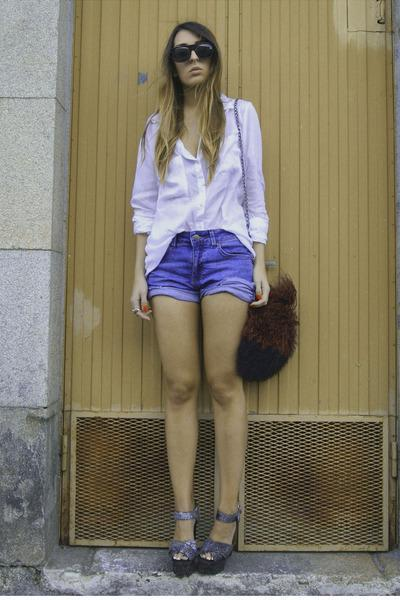bag: (235, 276, 299, 386)
shirt: (130, 94, 268, 273)
shoe: (163, 506, 251, 578)
shorts: (144, 229, 267, 314)
